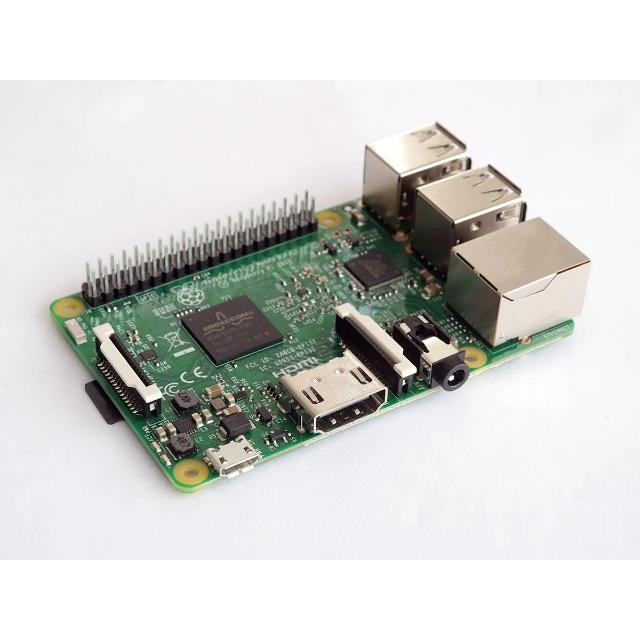Raspberry-Pi-3-B: (53, 124, 591, 490)
